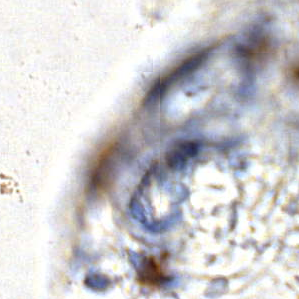Lymphocyte: (137, 254, 168, 286)
